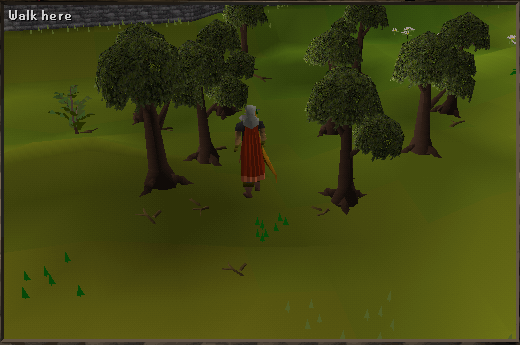Tree: (93, 30, 181, 202), (301, 72, 392, 222), (163, 12, 239, 169), (396, 30, 451, 165), (222, 0, 267, 52)
